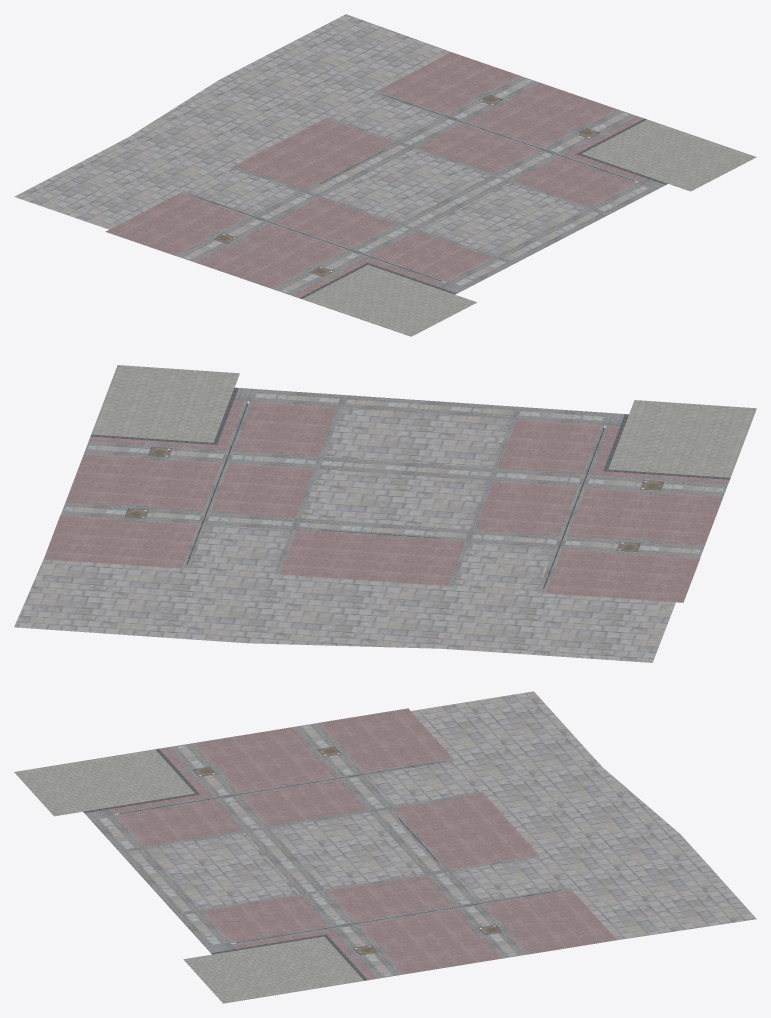
The model's file is JRP_FLOOR_C.FBX.
The picture shows the model from 3 angles, top to bottom: view 1: azimuth 30°, elevation 25°; view 2: azimuth 150°, elevation 25°; view 3: azimuth 270°, elevation 25°; orthographic projection. The views are drawn at different scales.
Visible parts, largest first — view 1: Rectangle012, JRP_Red, JRP_old_big, Rectangle006, Rectangle026, Rectangle025, Rectangle044, Rectangle046, Rectangle033, Rectangle035, Rectangle009, Rectangle013 (+3 smaller); view 2: Rectangle012, JRP_Red, JRP_old_big, Rectangle006, Rectangle026, Rectangle044, Rectangle035, Rectangle007, Rectangle009, Rectangle015, Rectangle025, Rectangle046 (+13 smaller); view 3: Rectangle012, JRP_Red, JRP_old_big, Rectangle006, Rectangle044, Rectangle033, Rectangle035, Rectangle025, Rectangle026, Rectangle046, Rectangle007, Rectangle009 (+6 smaller).
Part boxes in pixels (x1,y1,x2,y2): Rectangle012: [14, 14, 587, 256]; JRP_Red: [105, 52, 645, 297]; JRP_old_big: [302, 119, 756, 336]; Rectangle006: [182, 78, 648, 293]; Rectangle026: [351, 150, 545, 250]; Rectangle025: [364, 155, 558, 254]; Rectangle044: [268, 122, 461, 221]; Rectangle046: [255, 117, 448, 216]; Rectangle033: [448, 183, 641, 283]; Rectangle035: [462, 188, 655, 287]; Rectangle009: [400, 175, 496, 224]; Rectangle013: [497, 209, 593, 258]; Rectangle012: [14, 407, 675, 662]; JRP_Red: [43, 400, 729, 602]; JRP_old_big: [91, 365, 756, 477]; Rectangle006: [62, 393, 726, 553]; Rectangle026: [230, 459, 579, 486]; Rectangle044: [209, 512, 558, 539]; Rectangle035: [256, 389, 605, 416]; Rectangle007: [299, 518, 469, 533]; Rectangle009: [319, 465, 489, 480]; Rectangle015: [346, 395, 515, 410]; Rectangle025: [233, 450, 582, 478]; Rectangle046: [206, 520, 555, 548]; Rectangle012: [145, 691, 756, 939]; JRP_Red: [110, 708, 616, 980]; JRP_old_big: [14, 749, 363, 1003]; Rectangle006: [99, 724, 518, 977]; Rectangle044: [340, 778, 461, 905]; Rectangle033: [108, 816, 229, 943]; Rectangle035: [91, 819, 212, 946]; Rectangle025: [216, 798, 336, 925]; Rectangle026: [233, 796, 353, 923]; Rectangle046: [357, 775, 478, 902]; Rectangle007: [370, 811, 432, 873]; Rectangle009: [262, 828, 324, 890].
Size of the model in its own units: 7633 by 0.5 by 7673.
8 materials, 8 textured.
